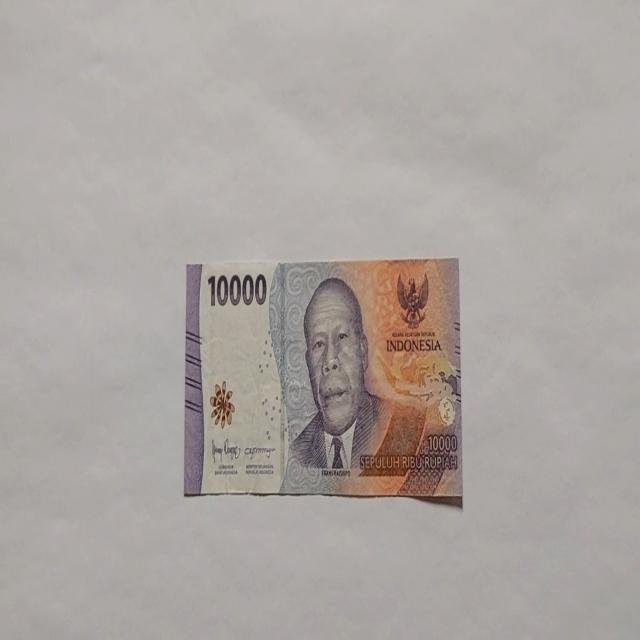sepuluh ribu rupiah: (183, 256, 463, 501), (278, 274, 427, 496)
